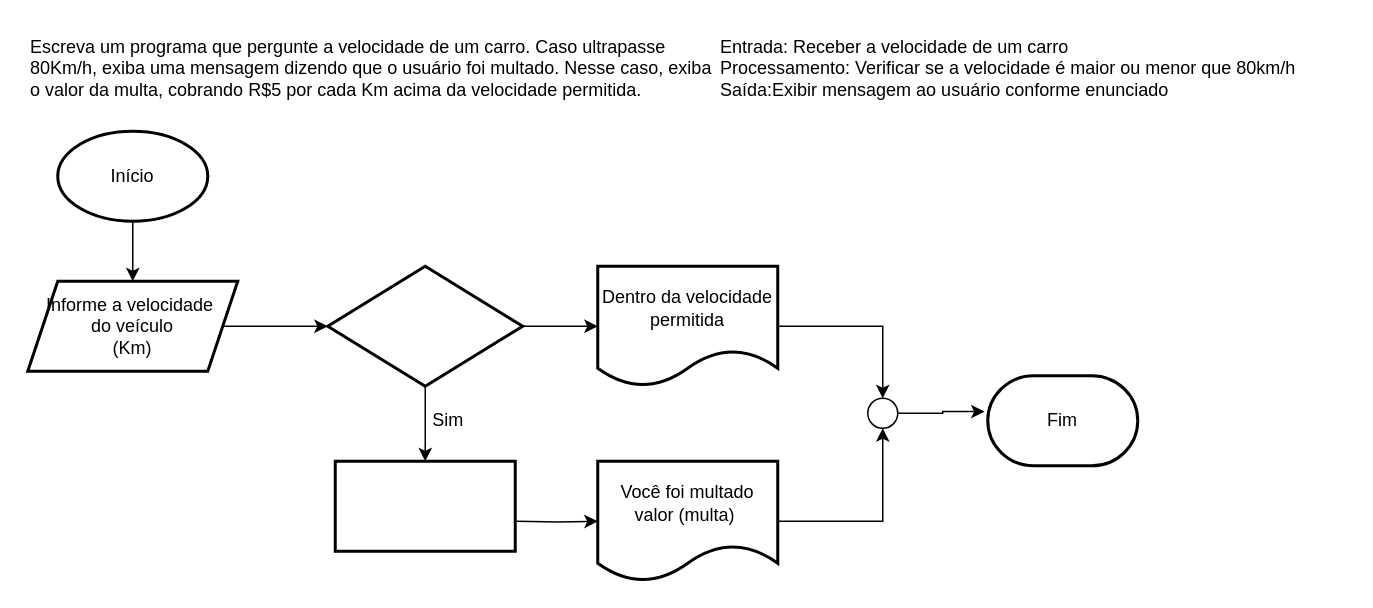
This 1373x608 diagram has some shape labels left out. Each missing label, with the centre of its shape:
Calcular valor da multa multa = km * 5: the point at 424,505
km > 80: the point at 425,325
